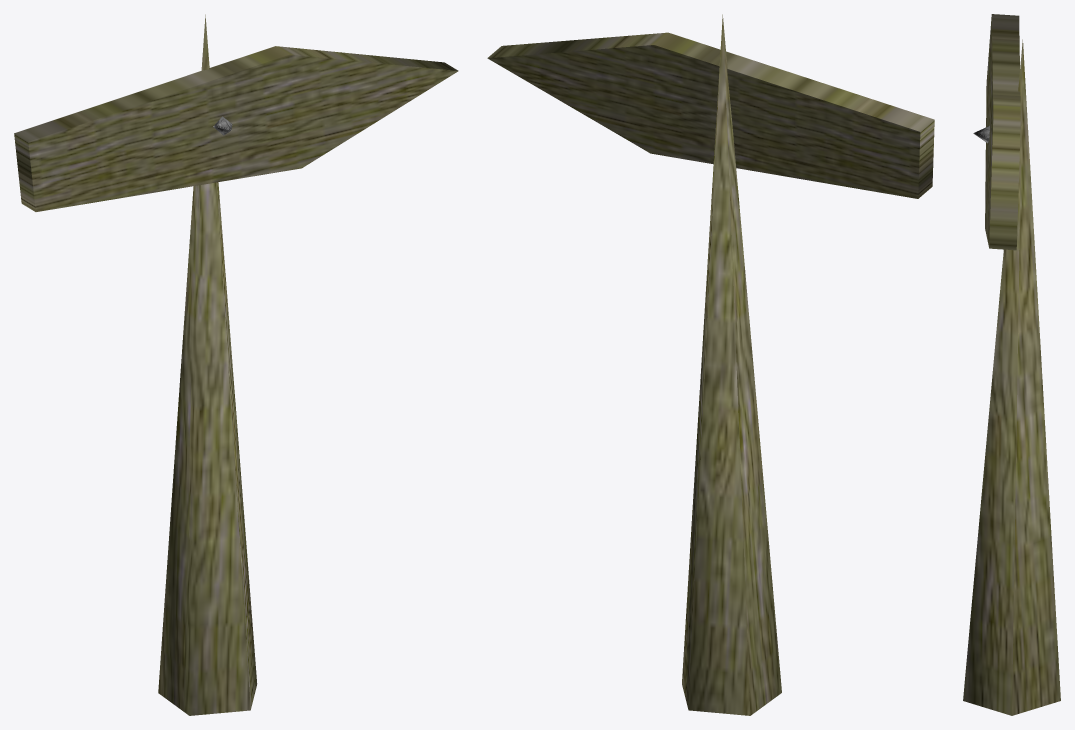
The model's file is guidepost01.obj.
3 views of the same model, side by side, from view 1: azimuth 30°, elevation 25°; view 2: azimuth 150°, elevation 25°; view 3: azimuth 270°, elevation 25° (orthographic). The views are drawn at different scales.
Visible parts, largest first — view 1: Cylinder01, Cylinder02; view 2: Cylinder01, Cylinder02; view 3: Cylinder02, Cylinder01.
Boxes of the visible parts, <box> form: Cylinder01: <box>14,46,458,211</box>; Cylinder02: <box>158,14,257,715</box>; Cylinder01: <box>487,32,934,198</box>; Cylinder02: <box>682,14,781,715</box>; Cylinder02: <box>963,39,1060,715</box>; Cylinder01: <box>985,14,1020,250</box>.
Size of the model in its own units: 33 by 49.75 by 6.74.
